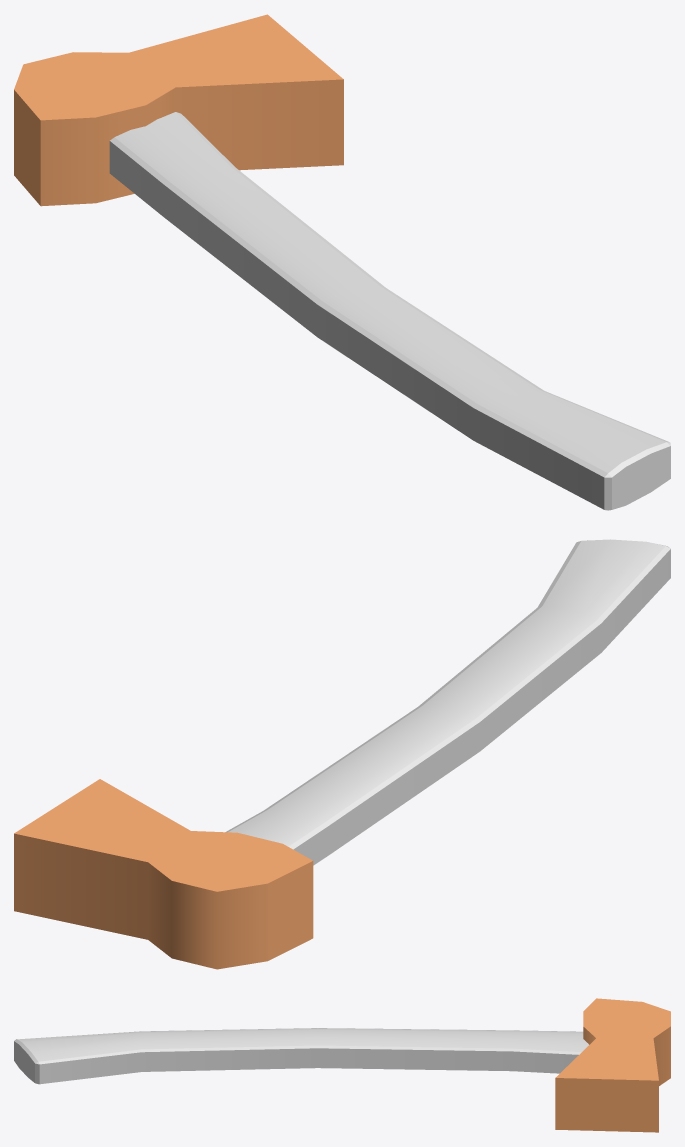
The model's file is Hammer_03.fbx.
The picture shows the model from 3 angles, top to bottom: view 1: azimuth 30°, elevation 25°; view 2: azimuth 150°, elevation 25°; view 3: azimuth 270°, elevation 25°; orthographic projection. The views are drawn at different scales.
Visible parts, largest first — view 1: Hammer_03; view 2: Hammer_03; view 3: Hammer_03.
Part boxes in pixels (x1,y1,x2,y2): Hammer_03: (14,14,670,510); Hammer_03: (14,539,670,969); Hammer_03: (14,998,670,1132).
Bounding box in the file's own units: 3.4 × 1 × 11.47.
